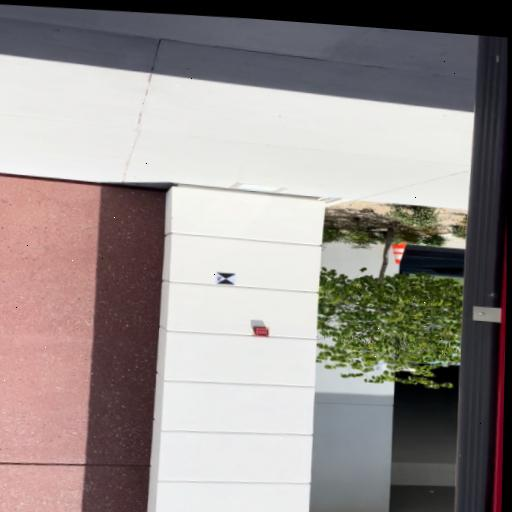target2: (215, 271, 236, 286)
